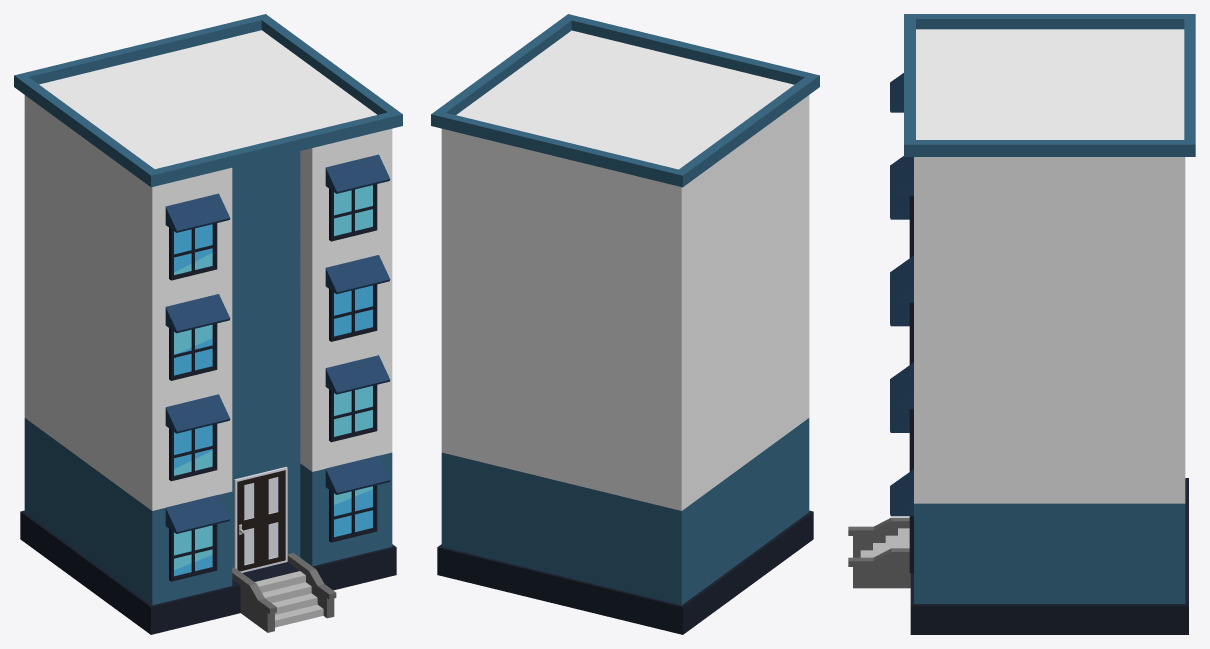
Rendered from Env_Motel_04.fbx.
3 renders of one model, left to right at view 1: azimuth 30°, elevation 25°; view 2: azimuth 150°, elevation 25°; view 3: azimuth 270°, elevation 25°, orthographic. The views are drawn at different scales.
Visible parts, largest first — view 1: Env_Motel_04; view 2: Env_Motel_04; view 3: Env_Motel_04.
Part boxes in pixels (left/top/right/bottom): Env_Motel_04: left=14, top=14, right=402, bottom=634; Env_Motel_04: left=431, top=14, right=819, bottom=634; Env_Motel_04: left=848, top=14, right=1195, bottom=634.
Bounding box in the file's own units: 593 × 1040 × 665.
